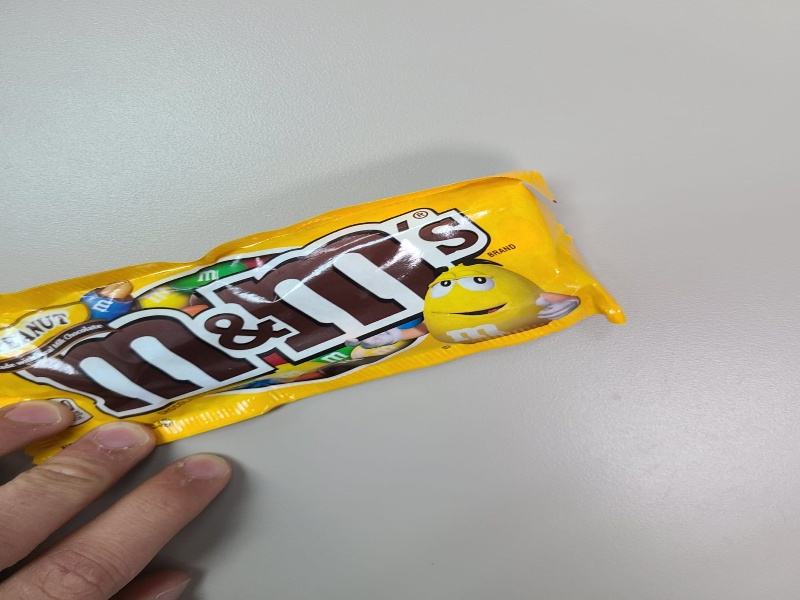m&m: (1, 164, 638, 474)
